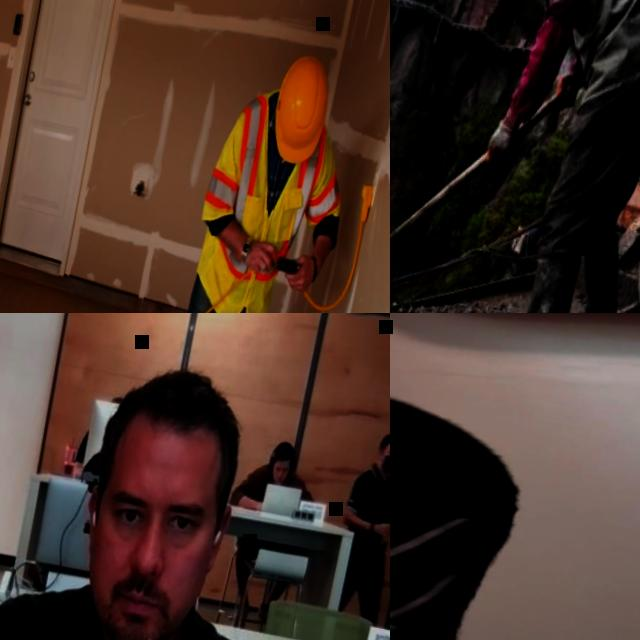Hardhat: (266, 48, 337, 167)
Mask: (390, 464, 508, 640), (381, 454, 390, 469)
NO-Hardhat: (112, 358, 252, 471), (390, 363, 522, 477), (273, 439, 298, 460), (381, 429, 390, 448)
NO-Mask: (88, 569, 188, 640), (272, 467, 287, 481)
NO-Safety Vest: (537, 0, 640, 99), (345, 472, 390, 579), (252, 463, 296, 505)
Person: (0, 331, 368, 640), (390, 360, 640, 640), (421, 0, 640, 313), (131, 33, 371, 313), (209, 432, 325, 624), (330, 420, 390, 613), (73, 388, 124, 464)
Safety Vest: (189, 80, 360, 313)
